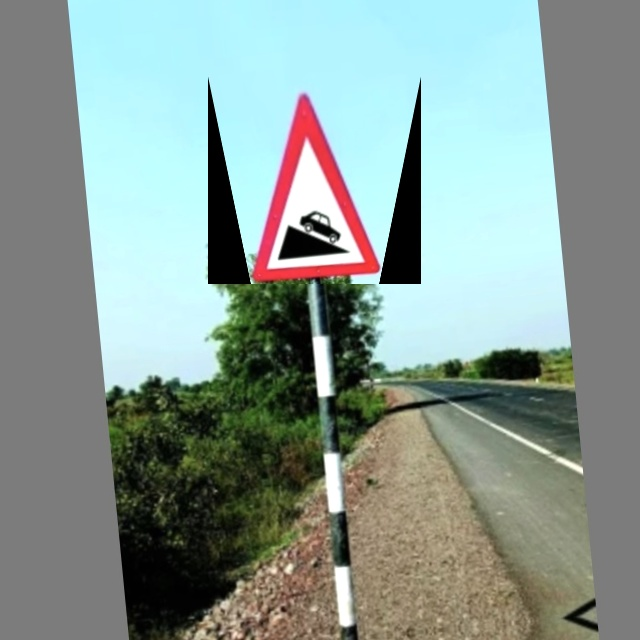Steep_Descent: (208, 76, 421, 284)
